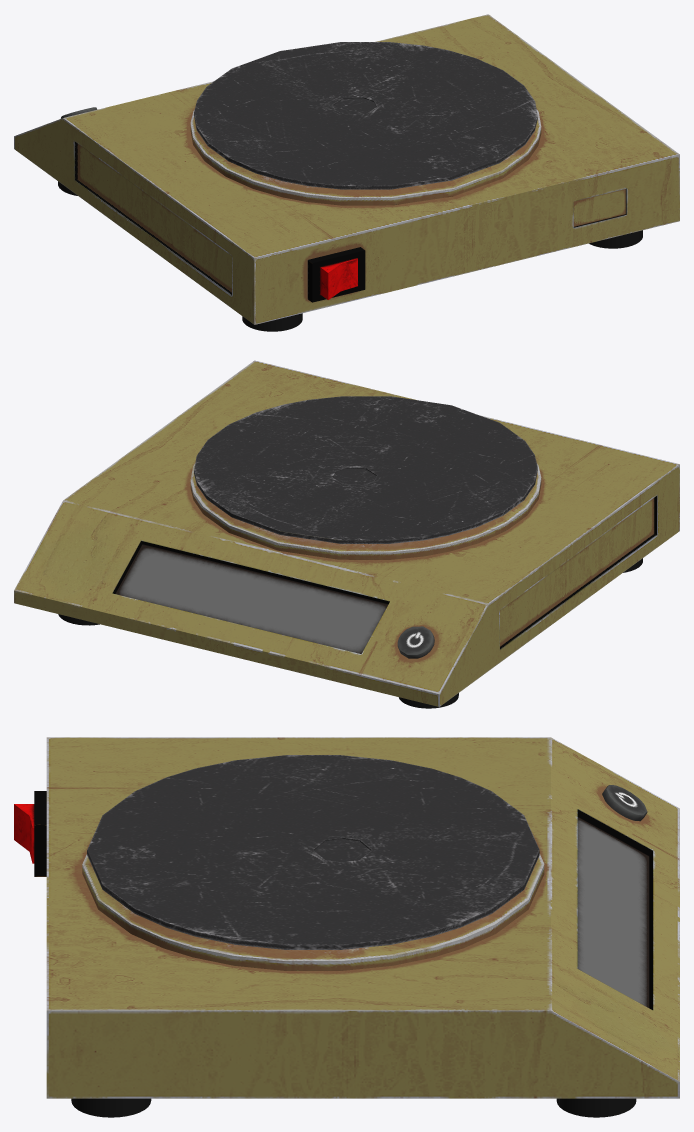
The model's file is Heating Plate.fbx.
3 views of the same model, one above another, from view 1: azimuth 30°, elevation 25°; view 2: azimuth 150°, elevation 25°; view 3: azimuth 270°, elevation 25° (orthographic). The views are drawn at different scales.
Visible parts, largest first — view 1: Plate; view 2: Plate; view 3: Plate.
Part boxes in pixels (<box>): Plate: <box>14,14,679,331</box>; Plate: <box>14,360,679,708</box>; Plate: <box>14,737,679,1117</box>.
Size of the model in its own units: 2 by 0.4819 by 2.06.
1 material, 1 textured.
